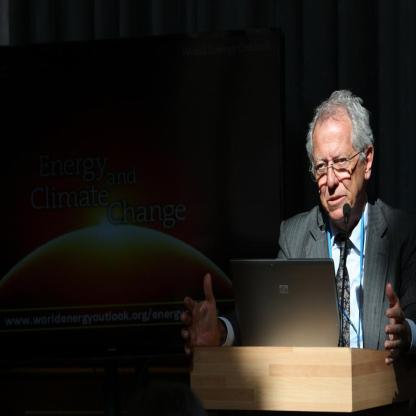board: (239, 259, 348, 353)
